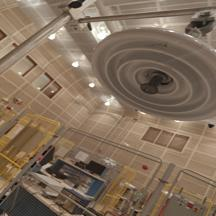insulator: (80, 13, 216, 127)
